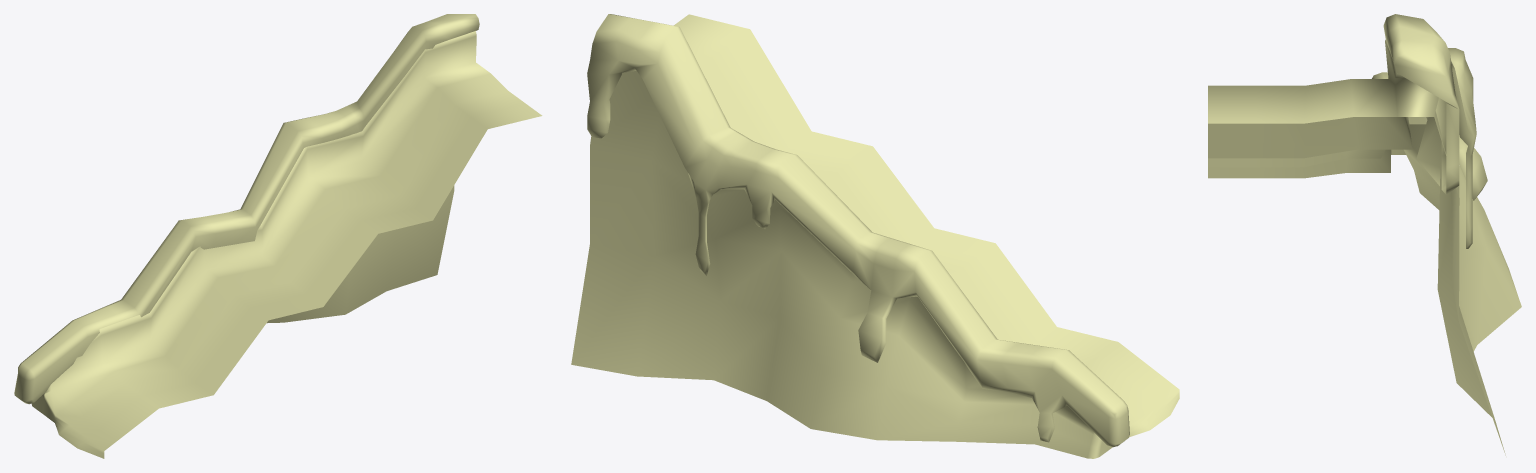
File: Stairs.fbx
3 renders of one model, left to right at view 1: azimuth 30°, elevation 25°; view 2: azimuth 150°, elevation 25°; view 3: azimuth 270°, elevation 25°, orthographic. The views are drawn at different scales.
Parts seen in each view (by area): view 1: Stairs, StairsHoney; view 2: Stairs, StairsHoney; view 3: Stairs, StairsHoney.
Part boxes in pixels (box(x1,y1,x2,y2)): Stairs: box(31, 31, 542, 458); StairsHoney: box(14, 14, 479, 404); Stairs: box(571, 14, 1179, 458); StairsHoney: box(587, 14, 1129, 447); Stairs: box(1208, 40, 1521, 455); StairsHoney: box(1372, 14, 1487, 248).
Size of the model in its own units: 2.24 by 1.33 by 0.9268.
